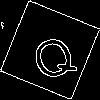Q: (25, 25, 80, 85)
